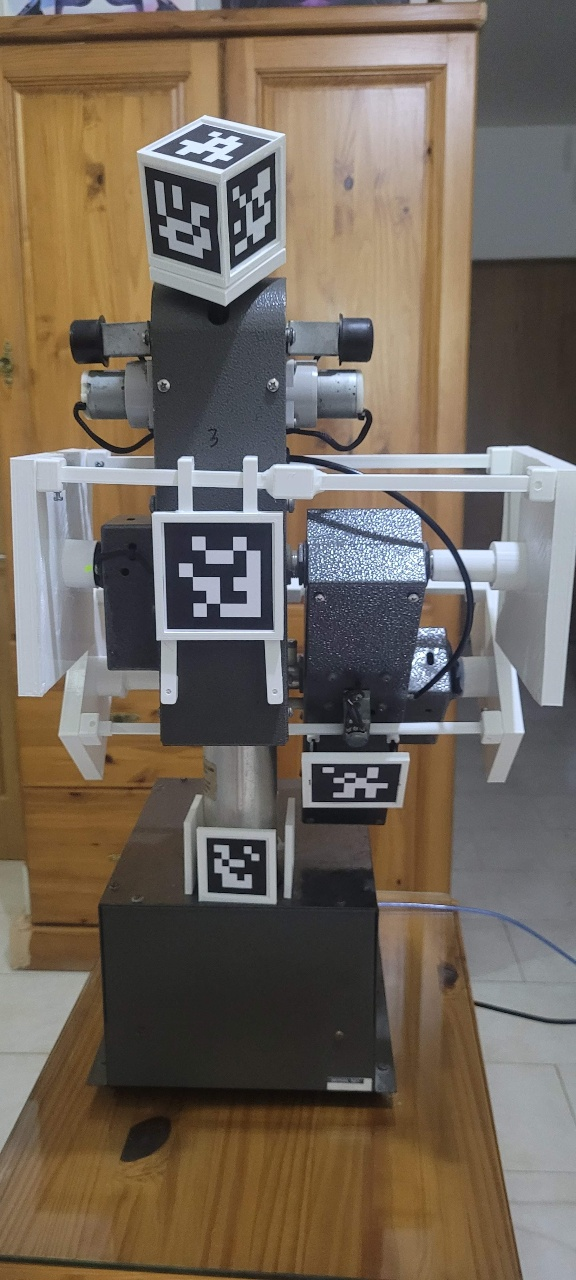Robot: (35, 266, 487, 918)
